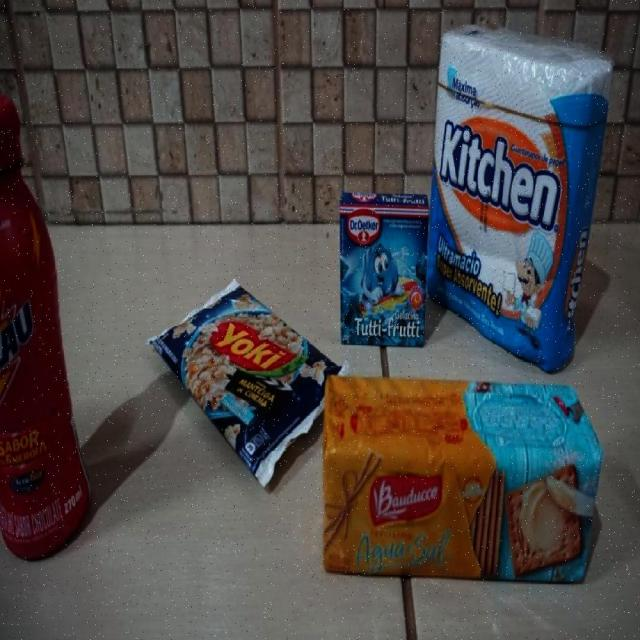ChocolateMilk: (0, 77, 94, 561), (0, 84, 91, 564)
Cracker: (321, 372, 605, 586), (326, 377, 604, 587)
Gelatine: (338, 190, 432, 349), (339, 196, 428, 356)
Napkin: (423, 22, 616, 376), (436, 34, 610, 370)
Popcorn: (146, 274, 350, 492), (149, 285, 325, 506)
